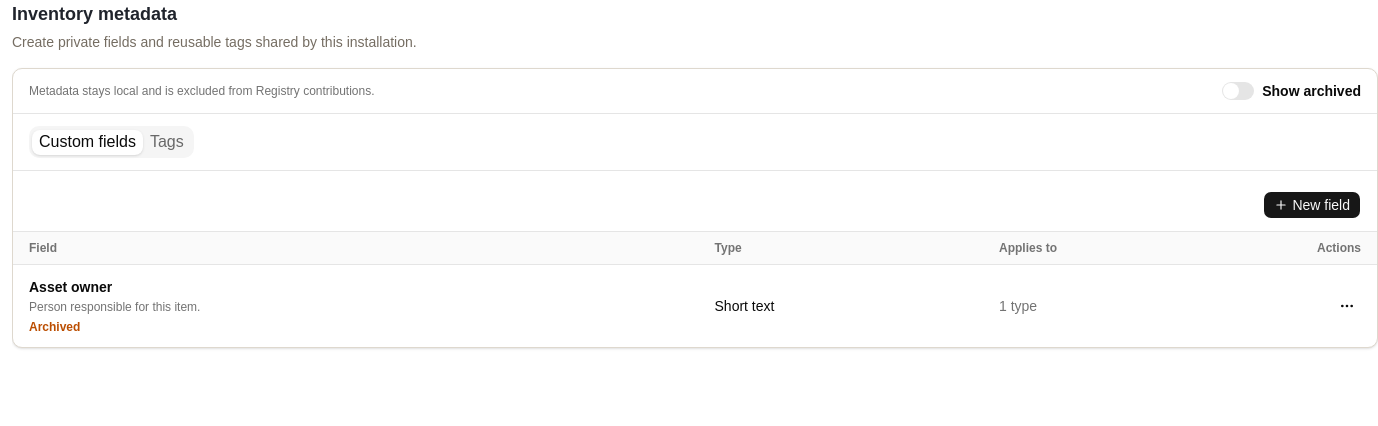
InventoryMetadataSettings › shows archived records as restorable and permanently deletable
Click the button named "Asset owner actions". click: {"x": 1347, "y": 306}
box: [1333,292,1361,320]
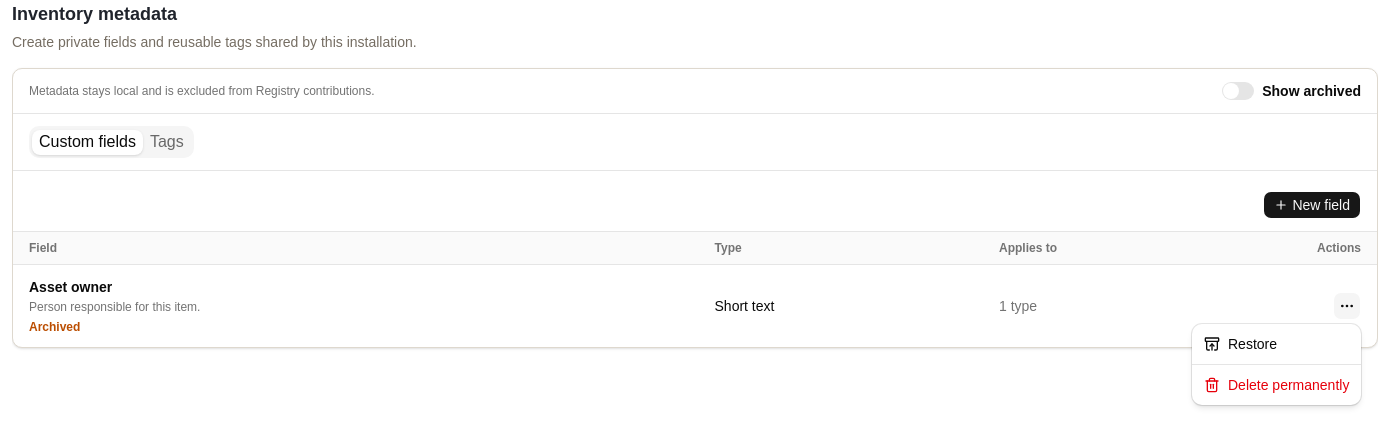
Now the menu item "Restore" is shown, box [1204,336,1277,352]
Now the menu item "Delete permanently" is shown, box [1204,377,1349,393]
